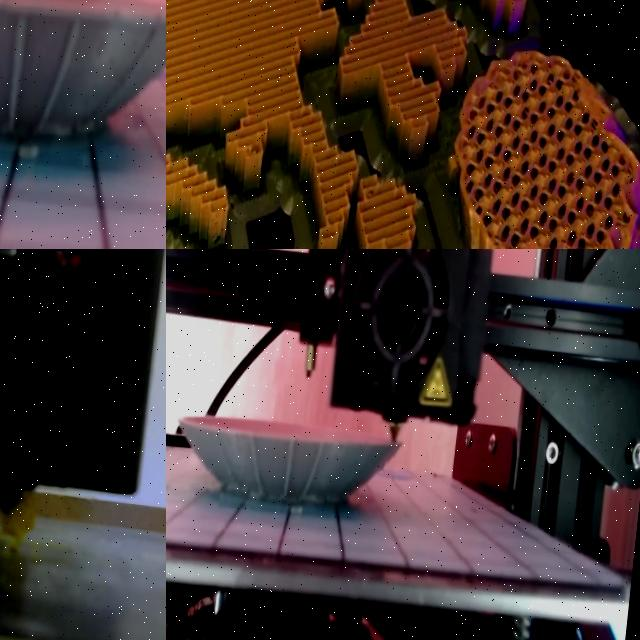spaghetti: (0, 487, 34, 549)
